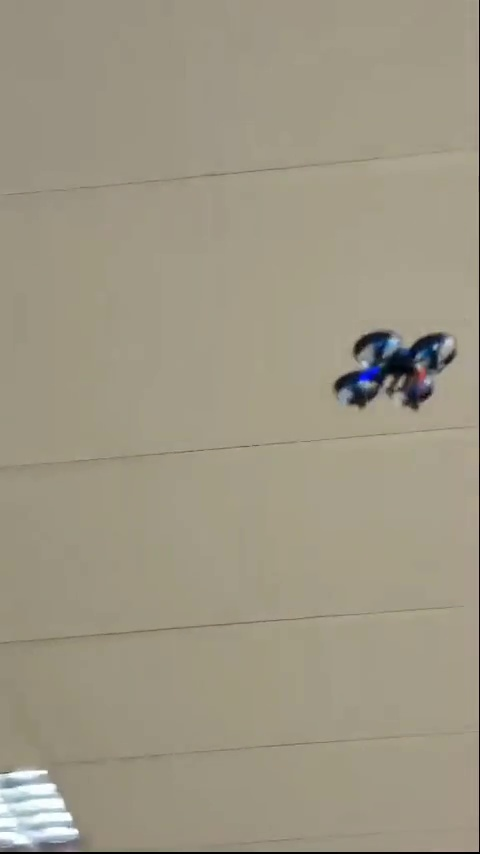drone: (334, 331, 460, 411)
